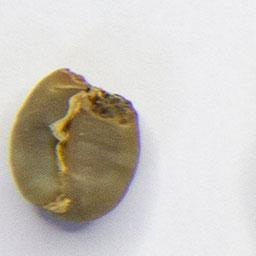defect: (6, 65, 143, 226)
